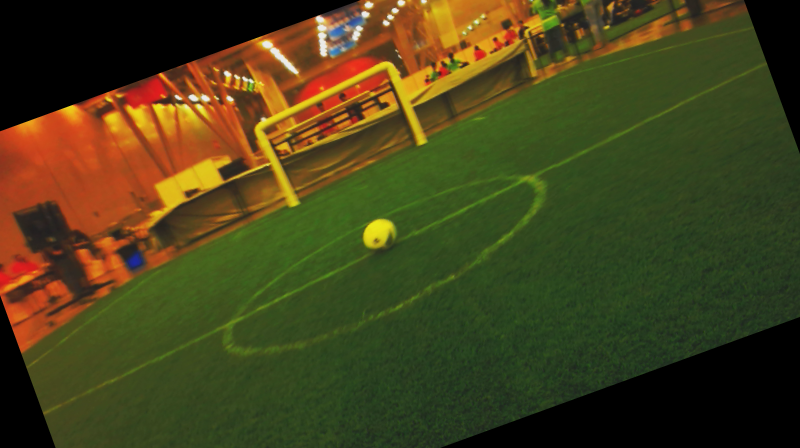post: (409, 125, 435, 155), (280, 187, 306, 215)
